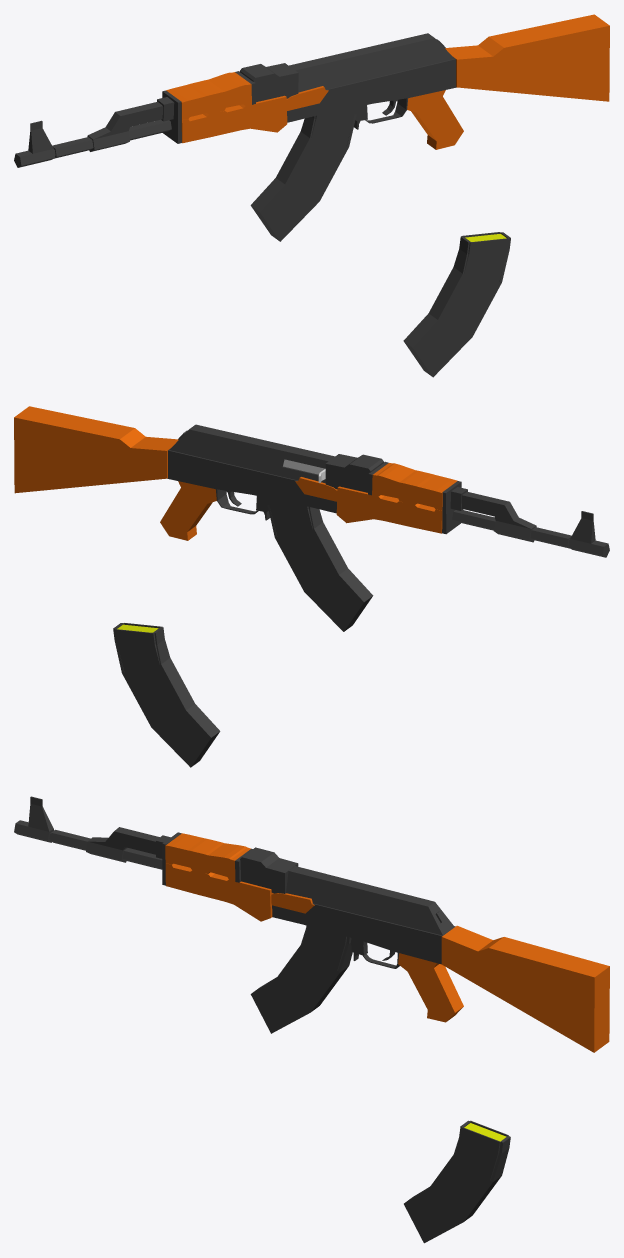
The picture shows the model from 3 angles, top to bottom: view 1: azimuth 30°, elevation 25°; view 2: azimuth 150°, elevation 25°; view 3: azimuth 330°, elevation 25°; orthographic projection.
Parts seen in each view (by area): view 1: 큐브, 큐브.005, 큐브.002; view 2: 큐브, 큐브.005, 큐브.002; view 3: 큐브, 큐브.005, 큐브.002.
Part boxes in pixels (bbox=[...]): 큐브: bbox=[14, 14, 609, 167]; 큐브.005: bbox=[403, 232, 510, 377]; 큐브.002: bbox=[250, 107, 357, 241]; 큐브: bbox=[14, 406, 609, 557]; 큐브.005: bbox=[113, 623, 220, 767]; 큐브.002: bbox=[266, 498, 373, 631]; 큐브: bbox=[14, 796, 609, 1052]; 큐브.005: bbox=[404, 1120, 510, 1243]; 큐브.002: bbox=[250, 925, 352, 1033].
Bounding box in the file's own units: 1923 × 1092 × 119.
